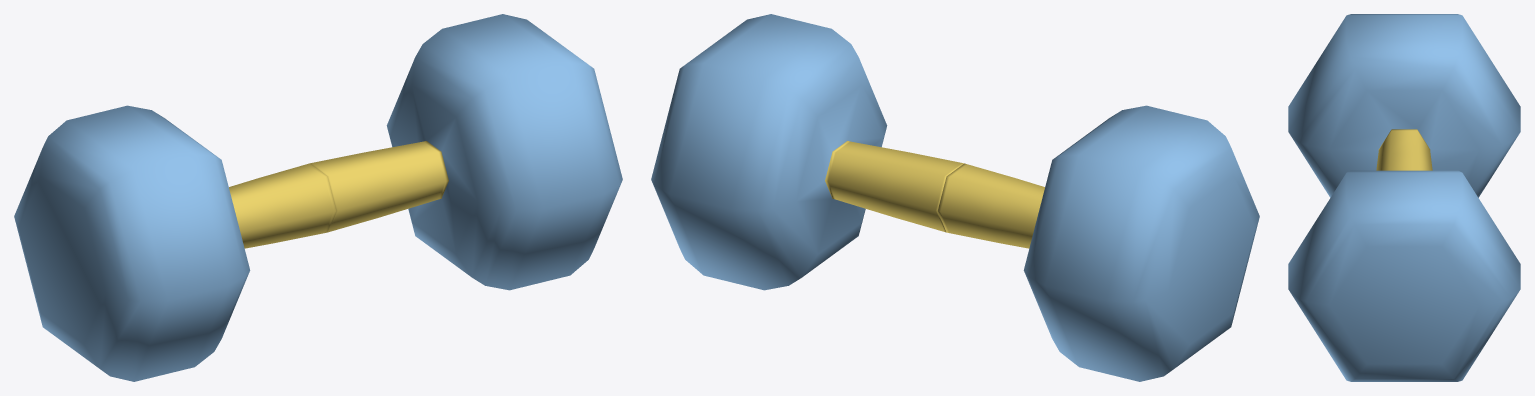
File: SM_Dumbell_02a.fbx
The picture shows the model from 3 angles, left to right: view 1: azimuth 30°, elevation 25°; view 2: azimuth 150°, elevation 25°; view 3: azimuth 270°, elevation 25°; orthographic projection. The views are drawn at different scales.
Visible parts, largest first — view 1: Dumbell_02, Dumbell_01; view 2: Dumbell_02, Dumbell_01; view 3: Dumbell_01, Dumbell_02.
Part boxes in pixels (left/top/right/bottom): Dumbell_02: left=14, top=105, right=336, bottom=381; Dumbell_01: left=310, top=14, right=622, bottom=290; Dumbell_02: left=937, top=105, right=1259, bottom=381; Dumbell_01: left=651, top=14, right=963, bottom=290; Dumbell_01: left=1288, top=170, right=1520, bottom=381; Dumbell_02: left=1288, top=14, right=1520, bottom=197.
Size of the model in its own units: 203 by 80.38 by 92.82.
